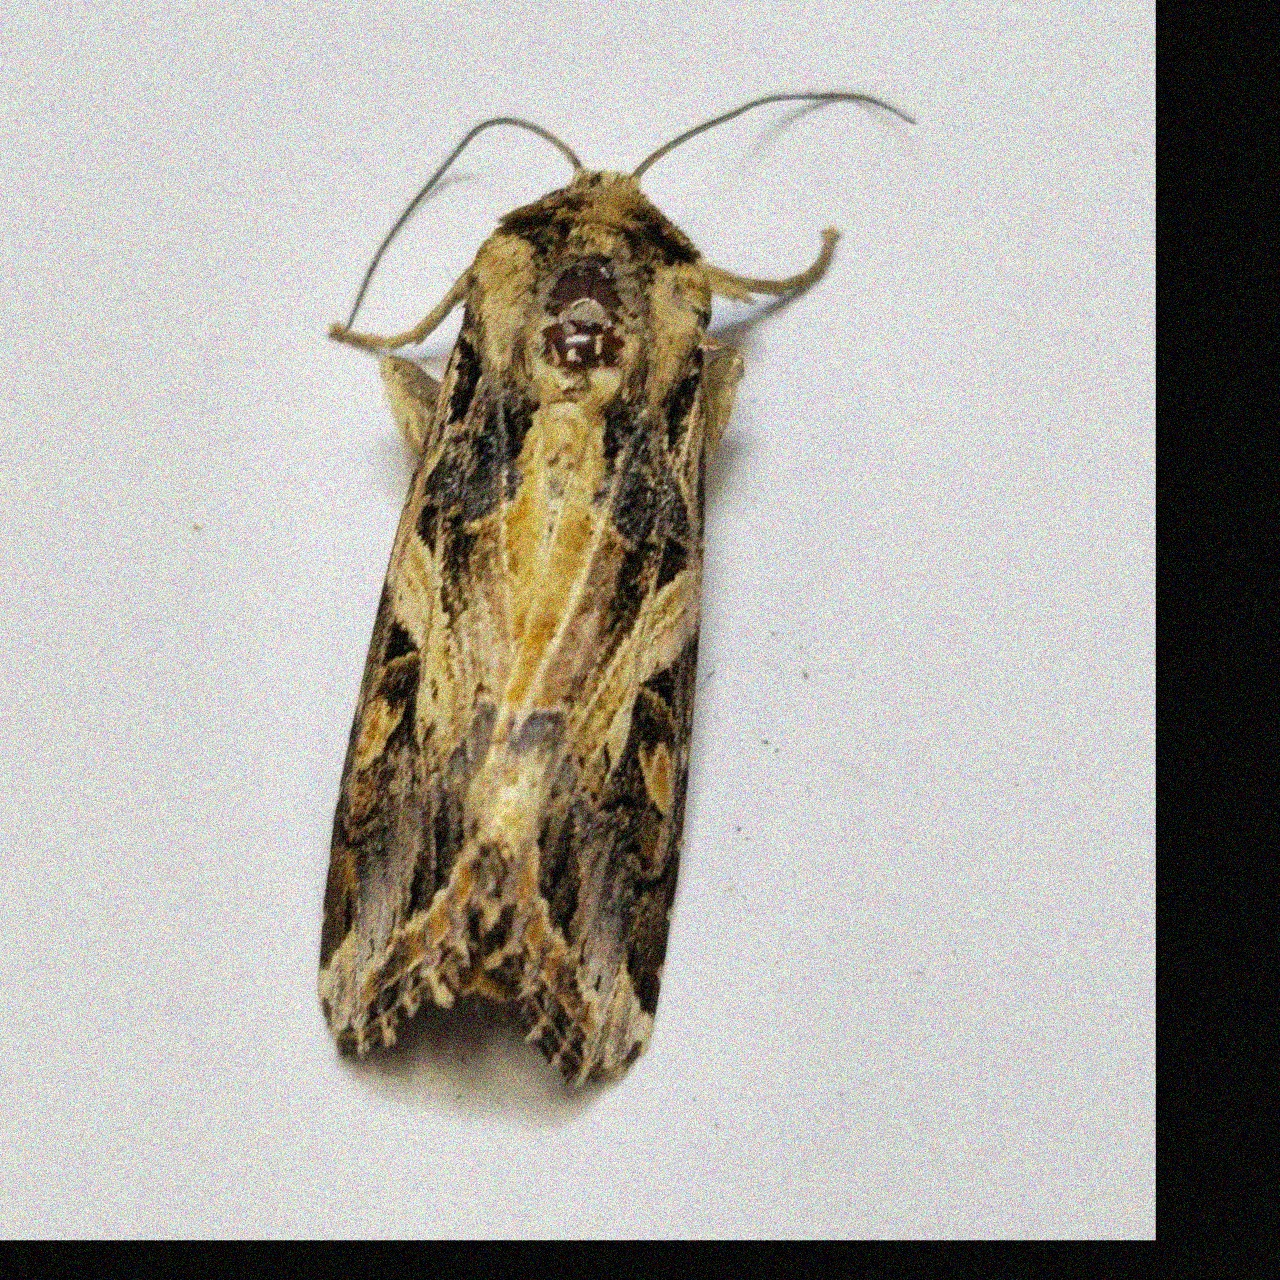Spodoptera litura: (316, 89, 915, 1091)
